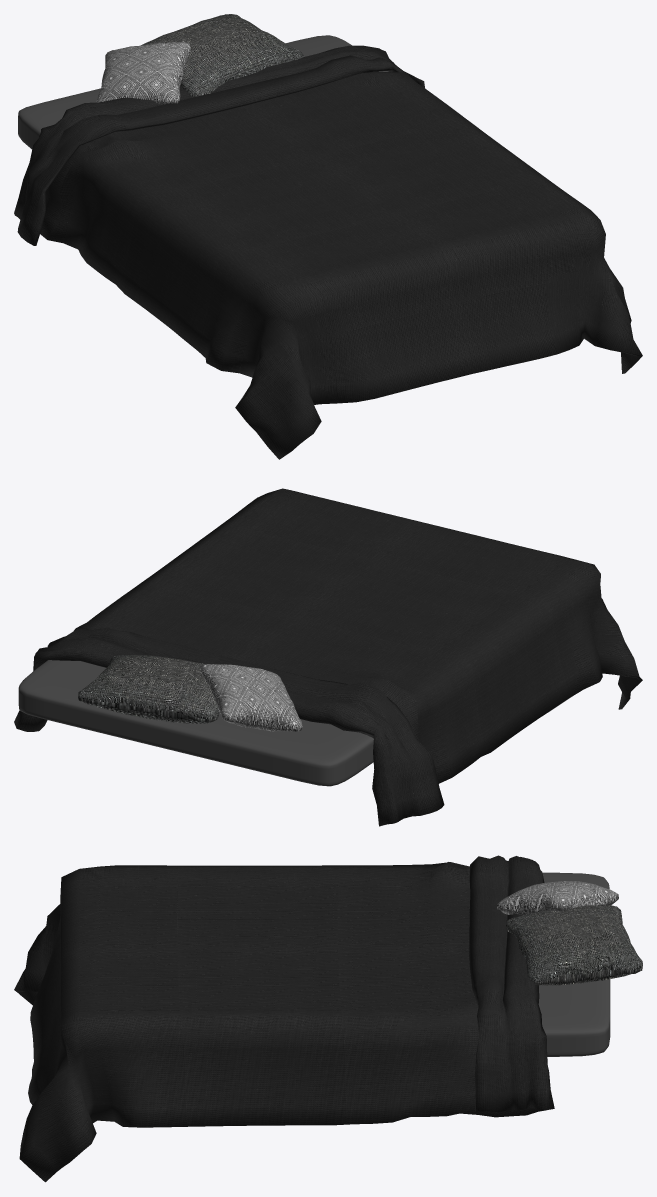
The model's file is BedNEW.fbx.
3 views of the same model, one above another, from view 1: azimuth 30°, elevation 25°; view 2: azimuth 150°, elevation 25°; view 3: azimuth 270°, elevation 25° (orthographic).
Parts seen in each view (by area): view 1: Blanket, Pillow2, Pillow1, Matress; view 2: Blanket, Matress, Pillow2, Pillow1; view 3: Blanket, Pillow2, Matress, Pillow1.
Boxes of the visible parts, bbox=[...] form: Blanket: bbox=[14, 45, 642, 459]; Pillow2: bbox=[141, 14, 303, 97]; Pillow1: bbox=[96, 41, 190, 104]; Matress: bbox=[18, 35, 388, 149]; Blanket: bbox=[14, 488, 642, 826]; Matress: bbox=[18, 660, 373, 786]; Pillow2: bbox=[78, 655, 219, 723]; Pillow1: bbox=[201, 664, 302, 731]; Blanket: bbox=[14, 855, 554, 1182]; Pillow2: bbox=[506, 905, 642, 985]; Matress: bbox=[538, 872, 610, 1056]; Pillow1: bbox=[497, 881, 618, 915].
Size of the model in its own units: 348 by 158 by 463.
Materials: 4 (3 with a texture image).
